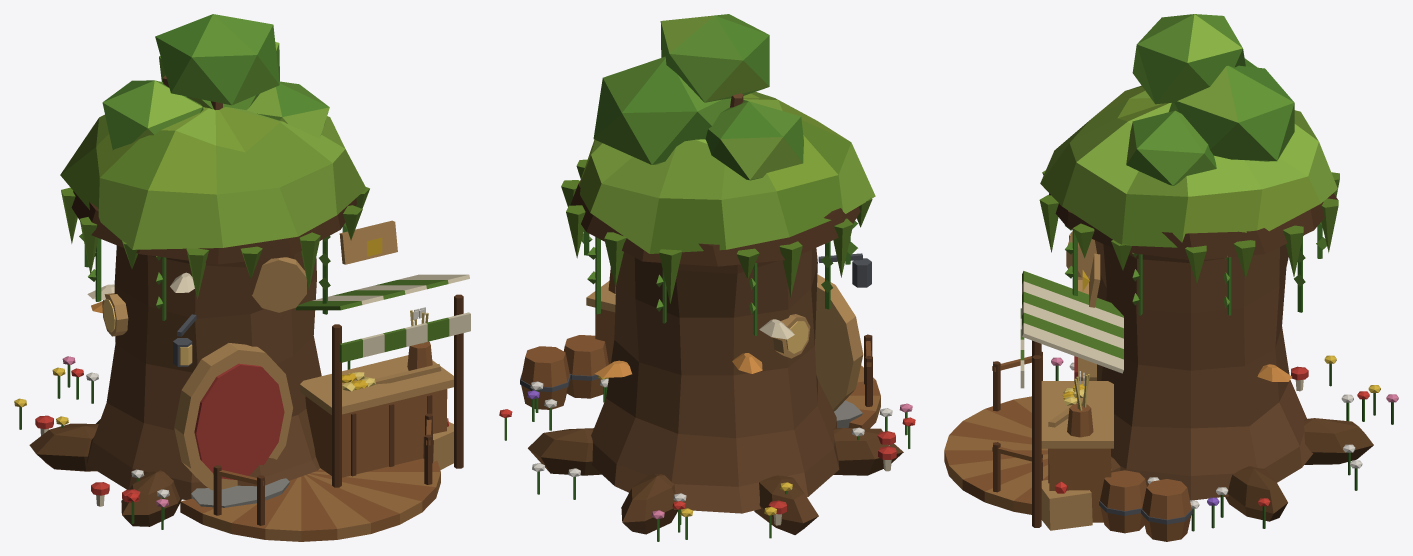
Rendered from home_tree_1.glb.
3 renders of one model, left to right at view 1: azimuth 30°, elevation 25°; view 2: azimuth 150°, elevation 25°; view 3: azimuth 270°, elevation 25°, orthographic. The views are drawn at different scales.
Parts seen in each view (by area): view 1: home_tree_1, glow; view 2: home_tree_1, glow; view 3: home_tree_1.
Boxes of the visible parts, bbox=[...] form: home_tree_1: bbox=[14, 14, 470, 541]; glow: bbox=[103, 299, 192, 365]; home_tree_1: bbox=[499, 14, 915, 541]; glow: bbox=[786, 321, 808, 353]; home_tree_1: bbox=[944, 14, 1398, 541].
Size of the model in its own units: 3.36 by 4.16 by 3.78.
